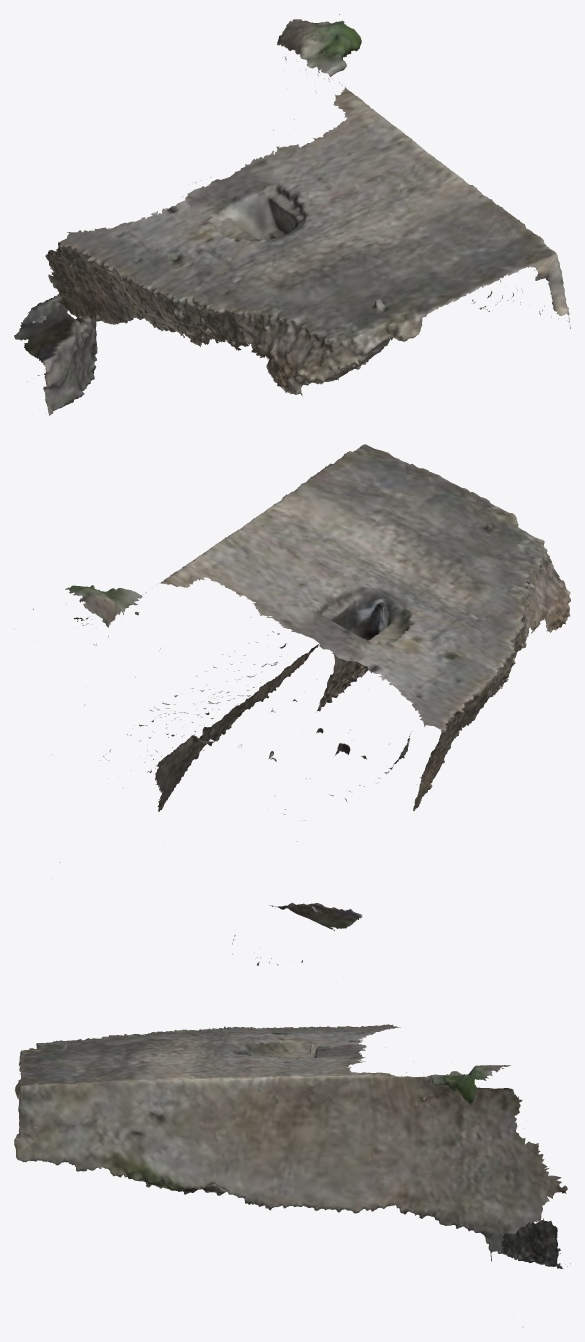
The picture shows the model from 3 angles, top to bottom: view 1: azimuth 30°, elevation 25°; view 2: azimuth 150°, elevation 25°; view 3: azimuth 270°, elevation 25°; orthographic projection. The views are drawn at different scales.
Bounding box in the file's own units: 12.24 × 10.45 × 18.08.
1 material, 1 textured.
